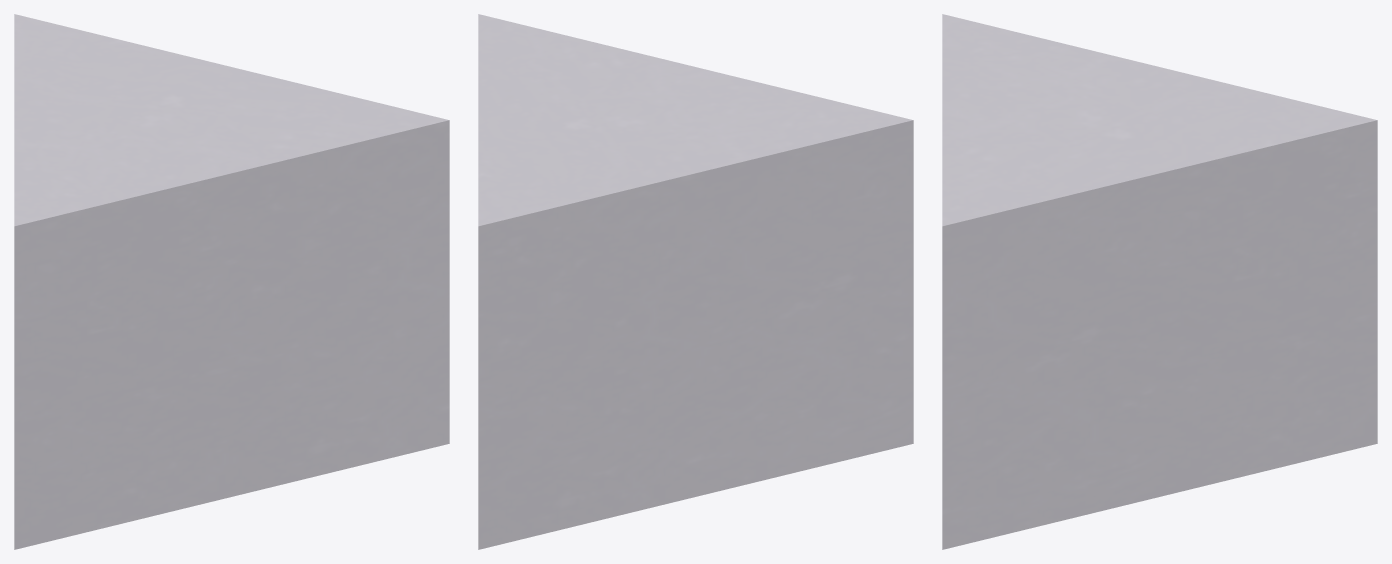
Rendered from tier-t2.glb.
3 renders of one model, left to right at view 1: azimuth 30°, elevation 25°; view 2: azimuth 150°, elevation 25°; view 3: azimuth 270°, elevation 25°, orthographic.
Parts seen in each view (by area): view 1: gem-t2-umbral-etched; view 2: gem-t2-umbral-etched; view 3: gem-t2-umbral-etched.
Part boxes in pixels (bbox=[...]): gem-t2-umbral-etched: bbox=[14, 14, 449, 549]; gem-t2-umbral-etched: bbox=[478, 14, 913, 549]; gem-t2-umbral-etched: bbox=[942, 14, 1377, 549].
Bounding box in the file's own units: 0.2252 × 0.16 × 0.195.
1 material, 1 textured.
